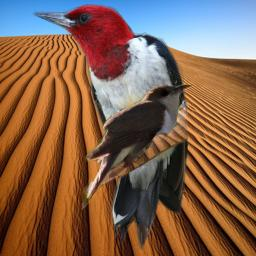Cuckoo: (82, 82, 192, 213)
Woodpecker: (33, 3, 188, 250)
